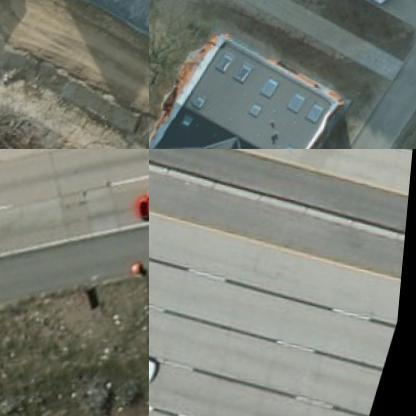car: (130, 173, 148, 236), (149, 338, 169, 390), (342, 0, 402, 13)
